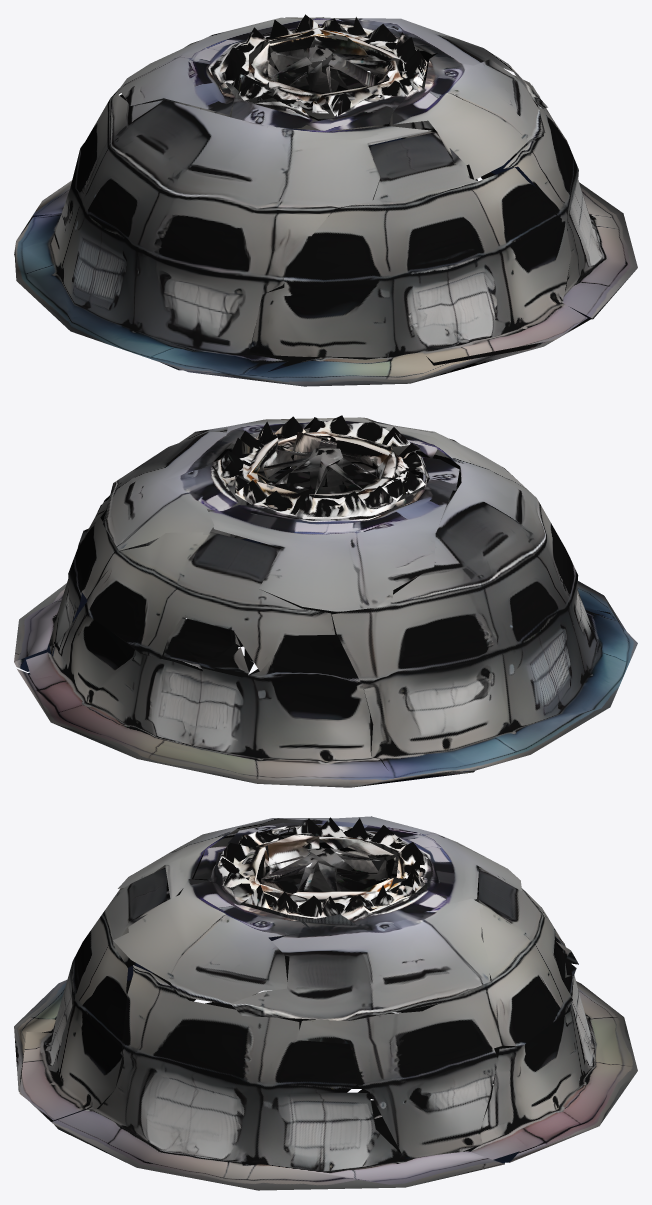
The picture shows the model from 3 angles, top to bottom: view 1: azimuth 30°, elevation 25°; view 2: azimuth 150°, elevation 25°; view 3: azimuth 270°, elevation 25°; orthographic projection.
Visible parts, largest first — view 1: texture_v100.001; view 2: texture_v100.001; view 3: texture_v100.001.
Boxes of the visible parts, x1,y1,x2,y2 form: texture_v100.001: [14, 14, 637, 386]; texture_v100.001: [14, 415, 637, 787]; texture_v100.001: [14, 816, 637, 1190].
Bounding box in the file's own units: 112 × 42.51 × 111.
1 material, 1 textured.
